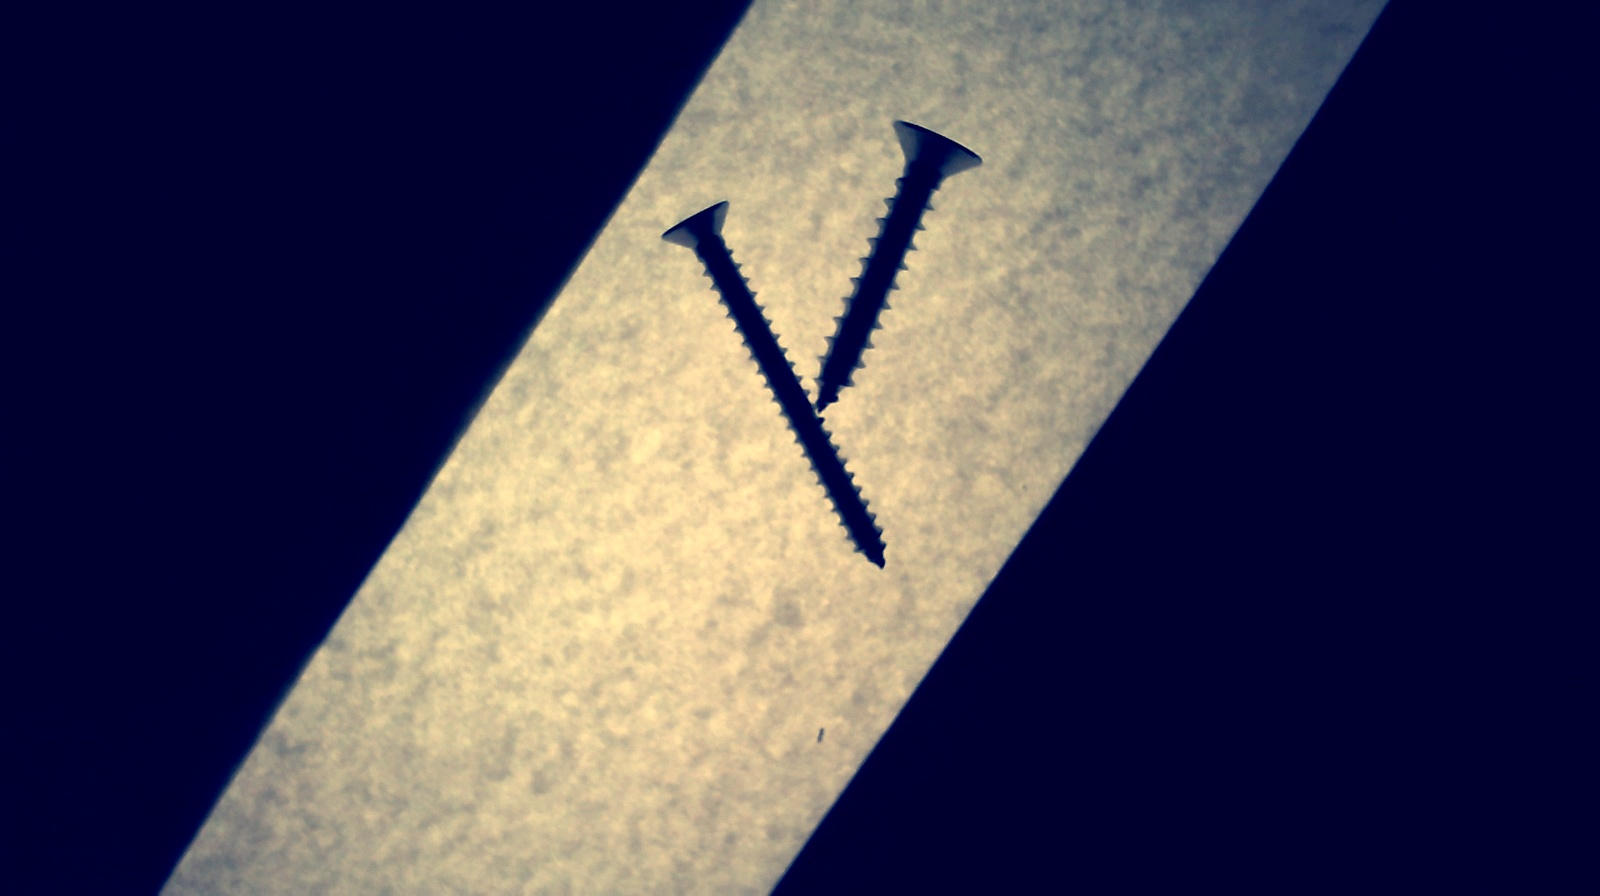S001: (819, 113, 995, 417)
S002: (660, 200, 891, 574)
